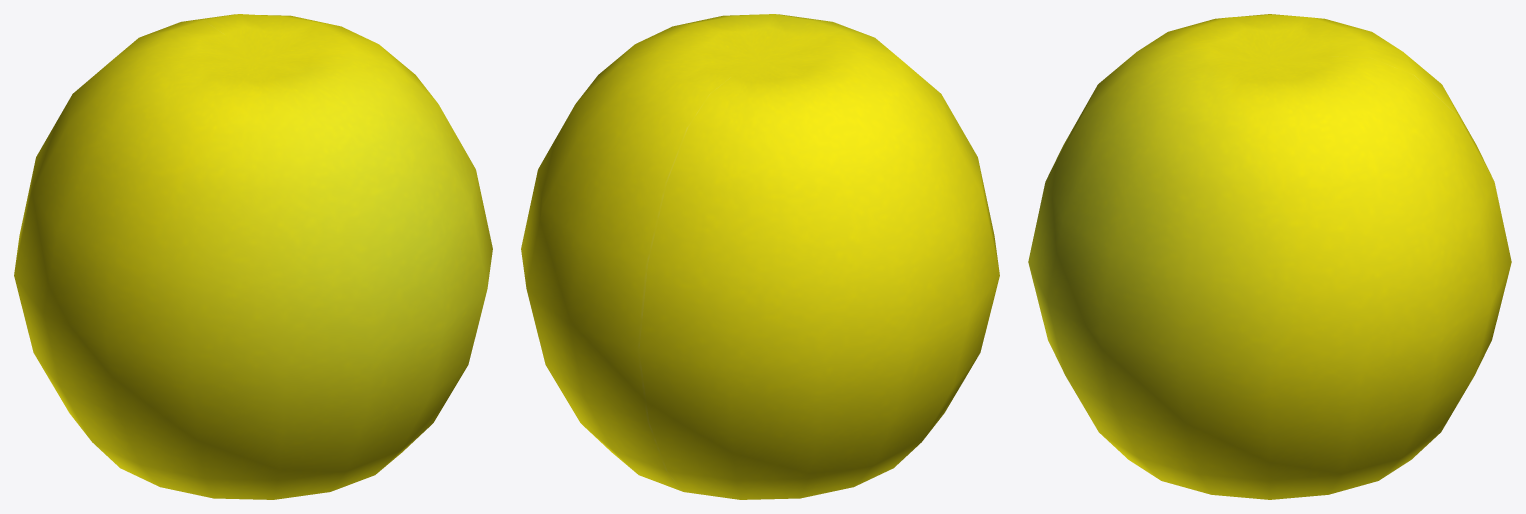
The model's file is lemon.FBX.
3 renders of one model, left to right at view 1: azimuth 30°, elevation 25°; view 2: azimuth 150°, elevation 25°; view 3: azimuth 270°, elevation 25°, orthographic.
Parts seen in each view (by area): view 1: Lemon; view 2: Lemon; view 3: Lemon.
Boxes of the visible parts, x1=… form: Lemon: x1=14, y1=14, x2=492, y2=499; Lemon: x1=521, y1=14, x2=999, y2=499; Lemon: x1=1028, y1=14, x2=1511, y2=499.
Bounding box in the file's own units: 3.98 × 3.6 × 3.98.
